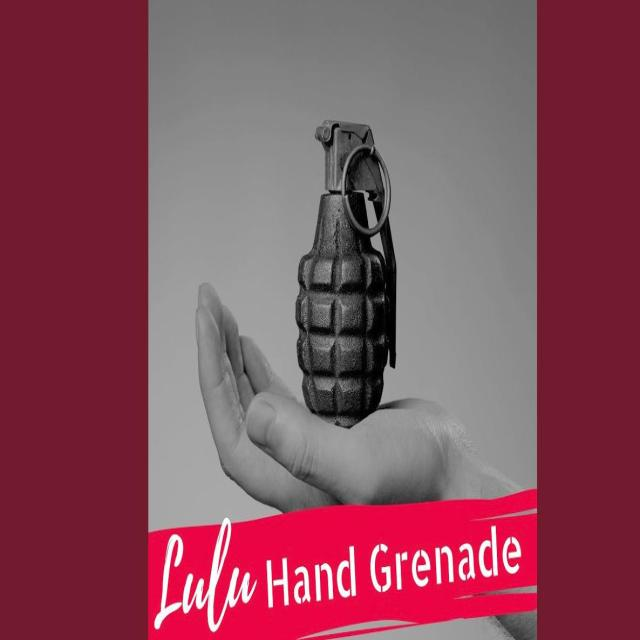grenade: (298, 119, 399, 431)
